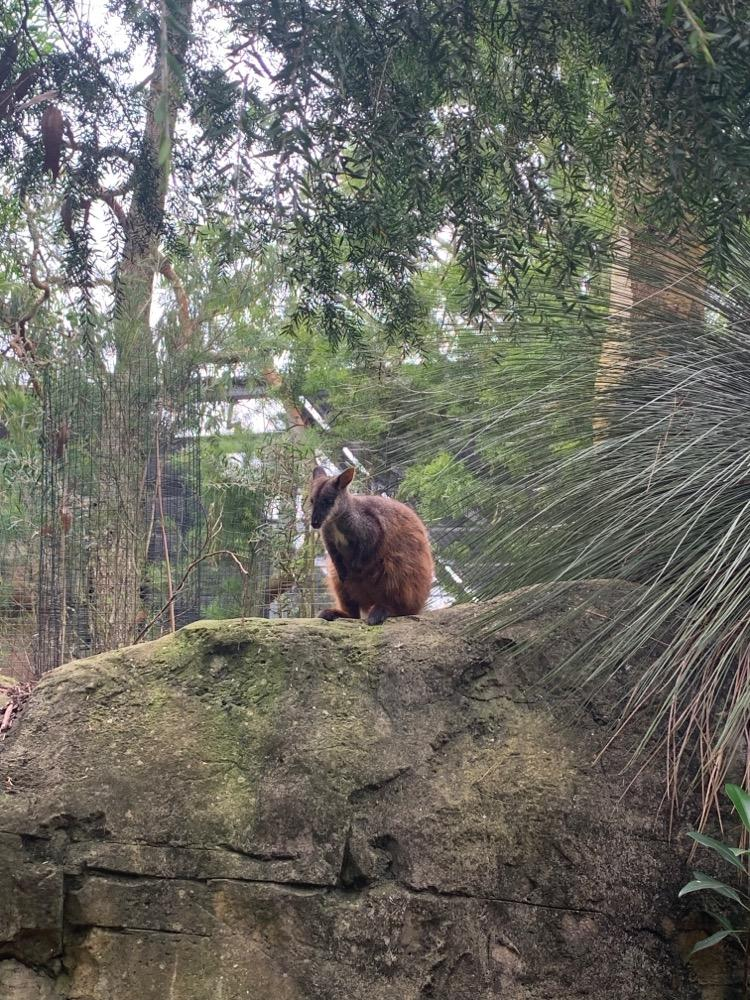Brush-tailed rock-wallaby: (304, 459, 436, 633)
